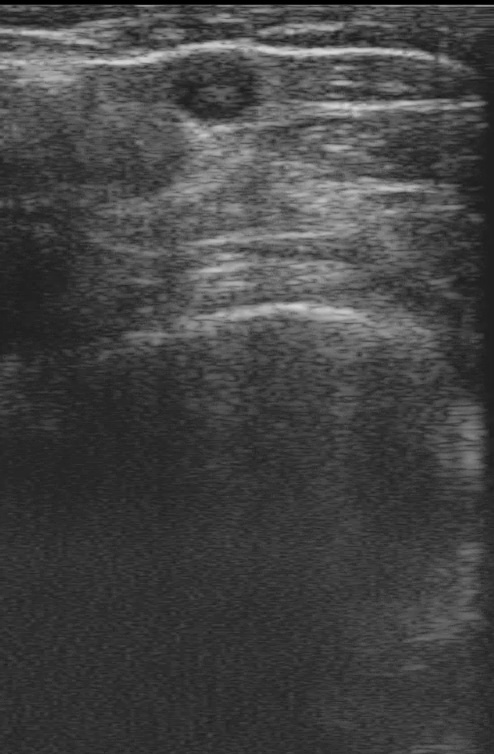veins_detect: (157, 38, 269, 136)
veins_seg: (166, 47, 260, 118)
